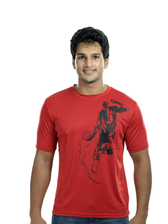clothoes: (29, 82, 152, 218)
